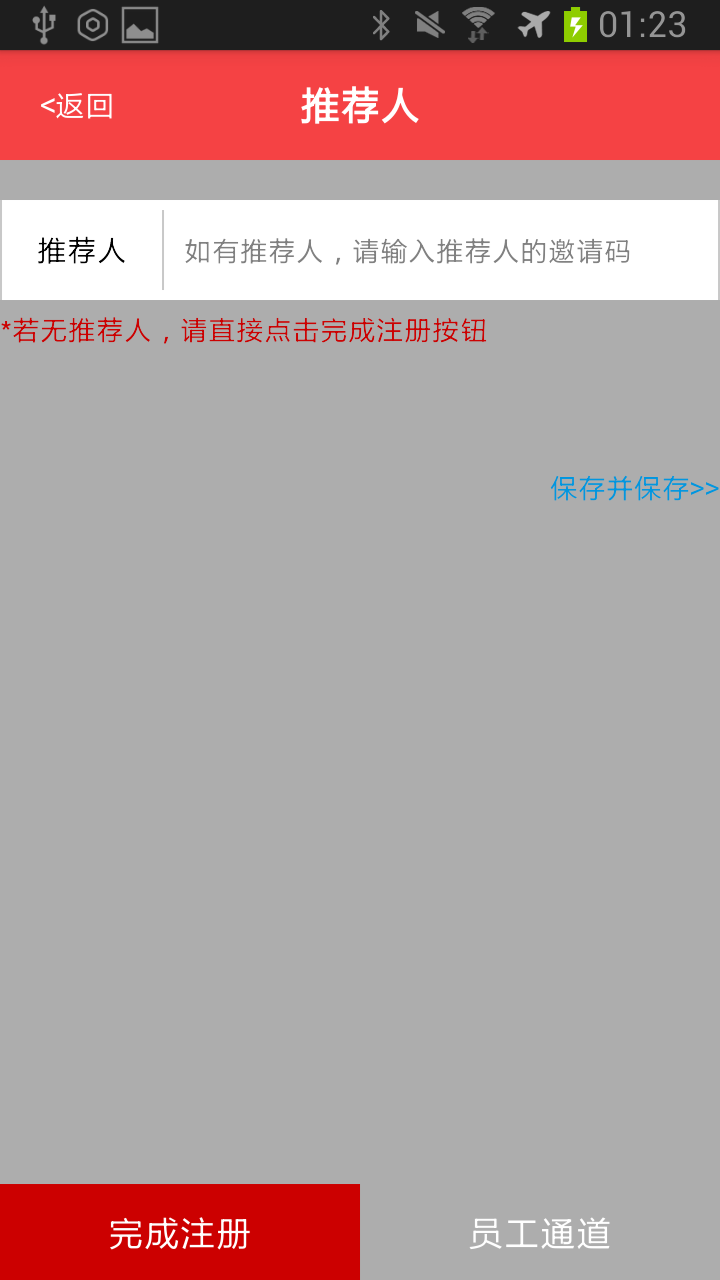alert: (347, 1173, 720, 1274)
button: (5, 1172, 371, 1280)
textview: (1, 194, 720, 308)
